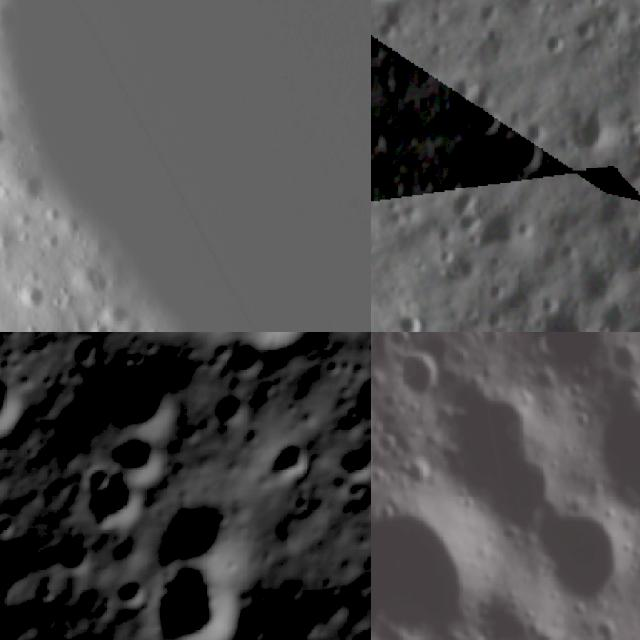crater: (371, 481, 494, 640), (516, 480, 640, 621), (138, 542, 271, 640), (149, 484, 246, 583), (579, 394, 640, 547), (102, 366, 178, 446), (81, 474, 153, 537), (99, 430, 175, 489), (0, 364, 46, 455), (207, 332, 326, 365), (388, 343, 448, 407), (442, 178, 494, 248), (568, 257, 626, 316), (560, 108, 617, 164), (264, 432, 313, 490), (497, 132, 552, 175), (397, 448, 445, 497), (520, 304, 598, 332), (14, 272, 58, 318), (223, 340, 269, 384), (463, 101, 508, 143), (208, 390, 250, 434), (307, 582, 353, 622), (334, 432, 371, 481), (109, 574, 152, 616), (64, 332, 105, 373), (50, 539, 90, 575), (252, 370, 291, 406), (76, 460, 113, 494), (397, 301, 428, 332), (205, 335, 232, 364), (73, 584, 101, 610), (358, 354, 371, 409), (342, 481, 370, 506), (344, 621, 371, 640)
